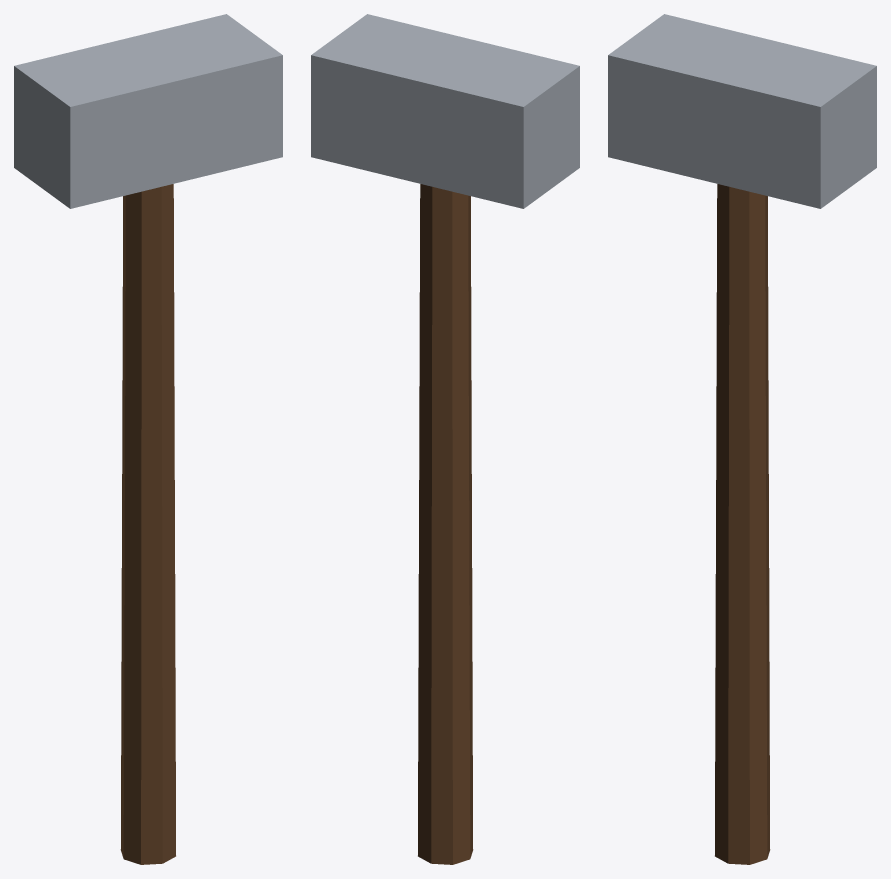
File: g-lighthammer.glb
3 renders of one model, left to right at view 1: azimuth 30°, elevation 25°; view 2: azimuth 150°, elevation 25°; view 3: azimuth 330°, elevation 25°, orthographic.
Visible parts, largest first — view 1: g-lighthammer; view 2: g-lighthammer; view 3: g-lighthammer.
Part boxes in pixels (<box>): g-lighthammer: <box>14,14,282,864</box>; g-lighthammer: <box>311,14,579,864</box>; g-lighthammer: <box>608,14,876,864</box>.
Bounding box in the file's own units: 0.12 × 0.4275 × 0.055.
